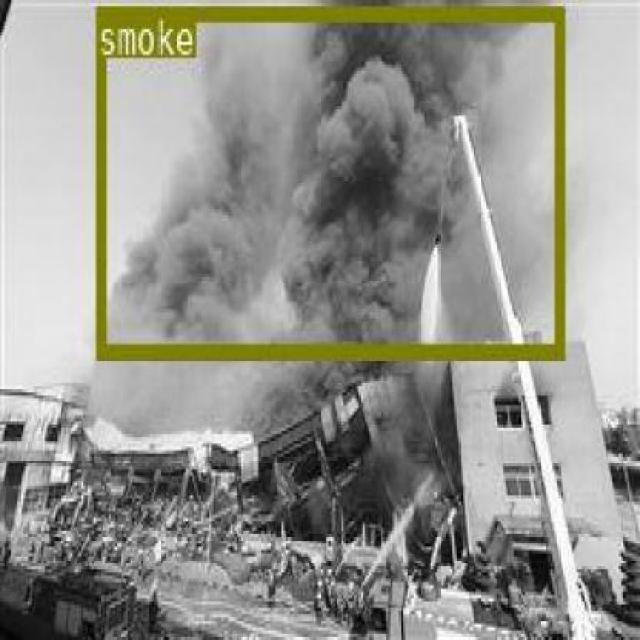Smoke: (95, 3, 563, 354)
